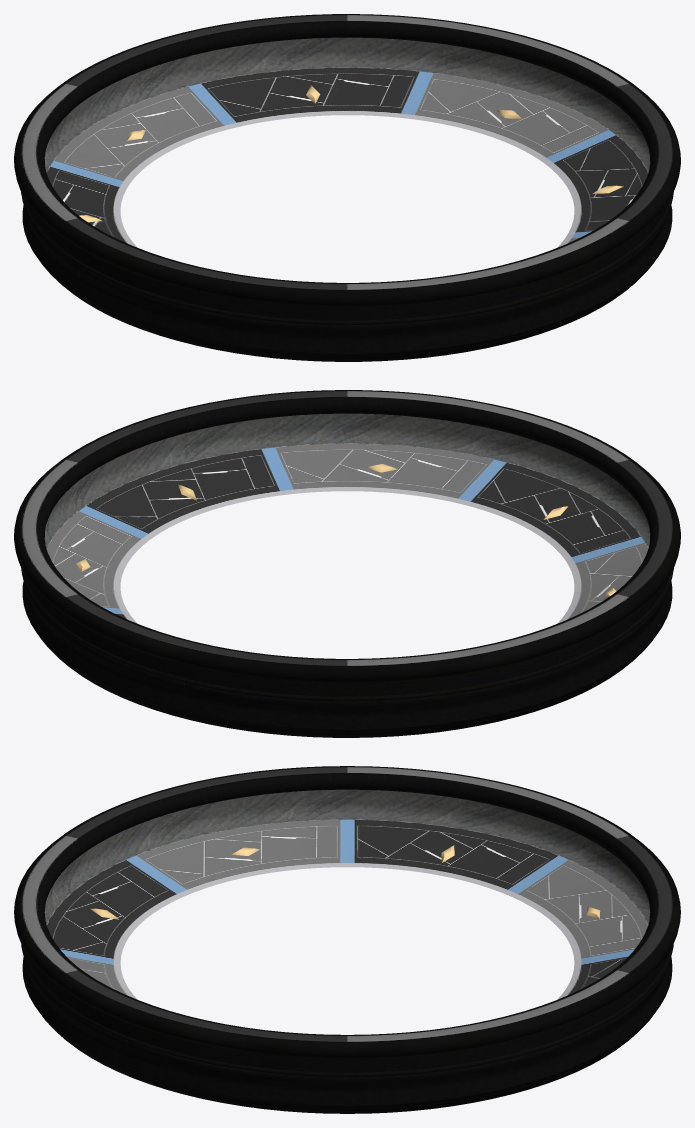
The model's file is American_Base.fbx.
The picture shows the model from 3 angles, top to bottom: view 1: azimuth 30°, elevation 25°; view 2: azimuth 150°, elevation 25°; view 3: azimuth 270°, elevation 25°; orthographic projection.
Visible parts, largest first — view 1: American_Base; view 2: American_Base; view 3: American_Base.
Part boxes in pixels (<box>): American_Base: <box>14,14,680,361</box>; American_Base: <box>14,390,680,737</box>; American_Base: <box>14,766,680,1113</box>.
Size of the model in its own units: 1.29 by 0.1639 by 1.29.
1 material, 1 textured.
